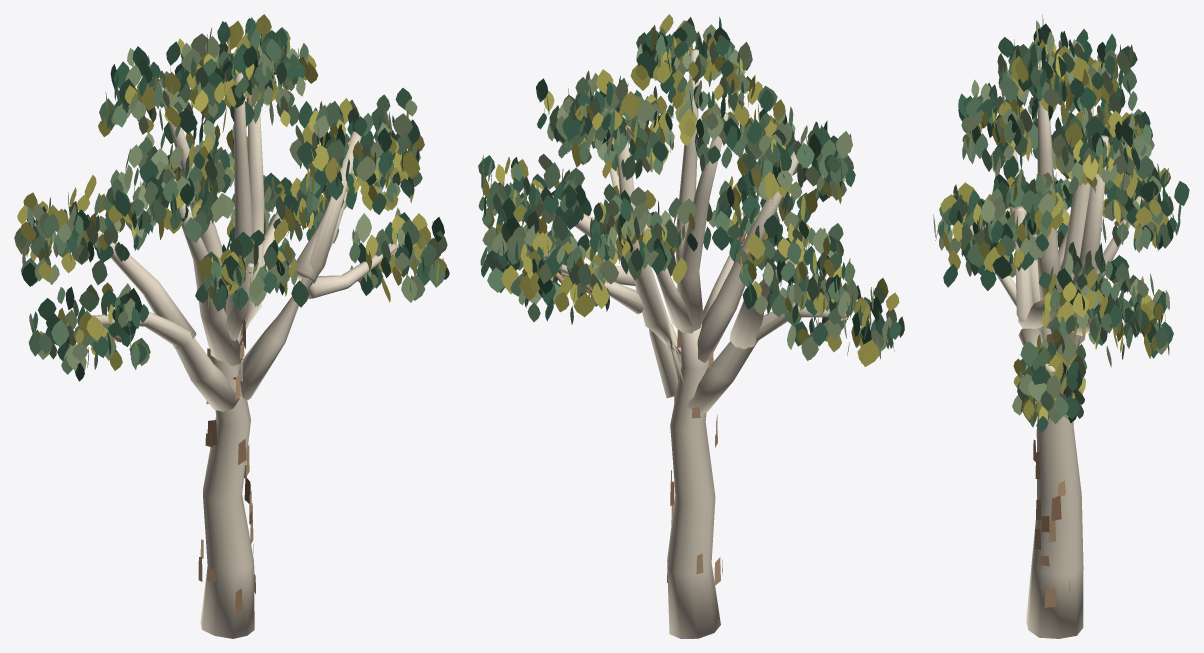
Rendered from TREE_EUCALYPTUS_001_v003_LOD_CLOSE.glb.
3 views of the same model, side by side, from view 1: azimuth 30°, elevation 25°; view 2: azimuth 150°, elevation 25°; view 3: azimuth 270°, elevation 25° (orthographic).
Visible parts, largest first — view 1: TREE_EUCALYPTUS_001_CLOSE_MERGED_FOLIAGE_SPRAYS, TREE_EUCALYPTUS_001_CLOSE_WOOD_00, TREE_EUCALYPTUS_001_CLOSE_WOOD_07, TREE_EUCALYPTUS_001_CLOSE_WOOD_01, TREE_EUCALYPTUS_001_CLOSE_WOOD_03, TREE_EUCALYPTUS_001_CLOSE_WOOD_05, TREE_EUCALYPTUS_001_CLOSE_WOOD_06, TREE_EUCALYPTUS_001_CLOSE_WOOD_02, TREE_EUCALYPTUS_001_CLOSE_BARK_PATCHES, TREE_EUCALYPTUS_001_CLOSE_WOOD_12, TREE_EUCALYPTUS_001_CLOSE_WOOD_04, TREE_EUCALYPTUS_001_CLOSE_WOOD_08 (+1 smaller); view 2: TREE_EUCALYPTUS_001_CLOSE_MERGED_FOLIAGE_SPRAYS, TREE_EUCALYPTUS_001_CLOSE_WOOD_00, TREE_EUCALYPTUS_001_CLOSE_WOOD_03, TREE_EUCALYPTUS_001_CLOSE_WOOD_04, TREE_EUCALYPTUS_001_CLOSE_WOOD_01, TREE_EUCALYPTUS_001_CLOSE_WOOD_06, TREE_EUCALYPTUS_001_CLOSE_WOOD_05, TREE_EUCALYPTUS_001_CLOSE_WOOD_07, TREE_EUCALYPTUS_001_CLOSE_WOOD_02, TREE_EUCALYPTUS_001_CLOSE_WOOD_10, TREE_EUCALYPTUS_001_CLOSE_BARK_PATCHES, TREE_EUCALYPTUS_001_CLOSE_WOOD_09; view 3: TREE_EUCALYPTUS_001_CLOSE_MERGED_FOLIAGE_SPRAYS, TREE_EUCALYPTUS_001_CLOSE_WOOD_00, TREE_EUCALYPTUS_001_CLOSE_WOOD_05, TREE_EUCALYPTUS_001_CLOSE_WOOD_06, TREE_EUCALYPTUS_001_CLOSE_BARK_PATCHES, TREE_EUCALYPTUS_001_CLOSE_WOOD_04, TREE_EUCALYPTUS_001_CLOSE_WOOD_07, TREE_EUCALYPTUS_001_CLOSE_WOOD_08, TREE_EUCALYPTUS_001_CLOSE_WOOD_03, TREE_EUCALYPTUS_001_CLOSE_WOOD_12, TREE_EUCALYPTUS_001_CLOSE_WOOD_10.
Part boxes in pixels (x1,y1,x2,y2): TREE_EUCALYPTUS_001_CLOSE_MERGED_FOLIAGE_SPRAYS: [14, 14, 449, 381]; TREE_EUCALYPTUS_001_CLOSE_WOOD_00: [200, 328, 254, 638]; TREE_EUCALYPTUS_001_CLOSE_WOOD_07: [240, 131, 361, 399]; TREE_EUCALYPTUS_001_CLOSE_WOOD_01: [92, 312, 239, 411]; TREE_EUCALYPTUS_001_CLOSE_WOOD_03: [174, 179, 242, 366]; TREE_EUCALYPTUS_001_CLOSE_WOOD_05: [225, 50, 253, 316]; TREE_EUCALYPTUS_001_CLOSE_WOOD_06: [233, 78, 264, 381]; TREE_EUCALYPTUS_001_CLOSE_WOOD_02: [96, 230, 196, 348]; TREE_EUCALYPTUS_001_CLOSE_BARK_PATCHES: [198, 319, 255, 612]; TREE_EUCALYPTUS_001_CLOSE_WOOD_12: [307, 243, 398, 299]; TREE_EUCALYPTUS_001_CLOSE_WOOD_04: [158, 80, 227, 312]; TREE_EUCALYPTUS_001_CLOSE_WOOD_08: [295, 168, 358, 283]; TREE_EUCALYPTUS_001_CLOSE_MERGED_FOLIAGE_SPRAYS: [478, 14, 904, 366]; TREE_EUCALYPTUS_001_CLOSE_WOOD_00: [667, 324, 720, 638]; TREE_EUCALYPTUS_001_CLOSE_WOOD_03: [680, 151, 798, 362]; TREE_EUCALYPTUS_001_CLOSE_WOOD_04: [676, 112, 728, 333]; TREE_EUCALYPTUS_001_CLOSE_WOOD_01: [686, 302, 849, 413]; TREE_EUCALYPTUS_001_CLOSE_WOOD_06: [617, 115, 689, 390]; TREE_EUCALYPTUS_001_CLOSE_WOOD_05: [676, 49, 698, 287]; TREE_EUCALYPTUS_001_CLOSE_WOOD_07: [605, 141, 681, 398]; TREE_EUCALYPTUS_001_CLOSE_WOOD_02: [729, 259, 795, 349]; TREE_EUCALYPTUS_001_CLOSE_WOOD_10: [638, 219, 691, 328]; TREE_EUCALYPTUS_001_CLOSE_BARK_PATCHES: [667, 329, 722, 585]; TREE_EUCALYPTUS_001_CLOSE_WOOD_09: [559, 264, 645, 314]; TREE_EUCALYPTUS_001_CLOSE_MERGED_FOLIAGE_SPRAYS: [933, 14, 1189, 432]; TREE_EUCALYPTUS_001_CLOSE_WOOD_00: [1026, 326, 1083, 638]; TREE_EUCALYPTUS_001_CLOSE_WOOD_05: [1037, 59, 1063, 328]; TREE_EUCALYPTUS_001_CLOSE_WOOD_06: [1061, 135, 1108, 370]; TREE_EUCALYPTUS_001_CLOSE_BARK_PATCHES: [1033, 333, 1070, 607]; TREE_EUCALYPTUS_001_CLOSE_WOOD_04: [1046, 106, 1093, 328]; TREE_EUCALYPTUS_001_CLOSE_WOOD_07: [1014, 206, 1066, 399]; TREE_EUCALYPTUS_001_CLOSE_WOOD_08: [1018, 290, 1069, 328]; TREE_EUCALYPTUS_001_CLOSE_WOOD_03: [1001, 116, 1039, 303]; TREE_EUCALYPTUS_001_CLOSE_WOOD_12: [1018, 327, 1055, 373]; TREE_EUCALYPTUS_001_CLOSE_WOOD_10: [1096, 196, 1143, 276].
Size of the model in its own units: 10.11 by 14.06 by 5.49.
